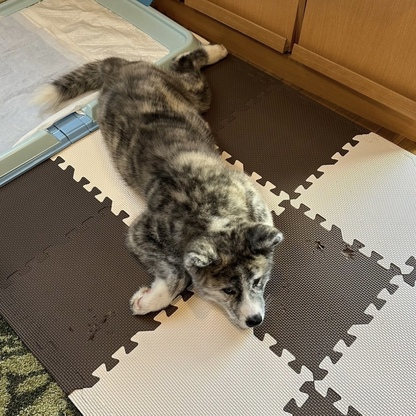akita: (29, 39, 289, 332)
